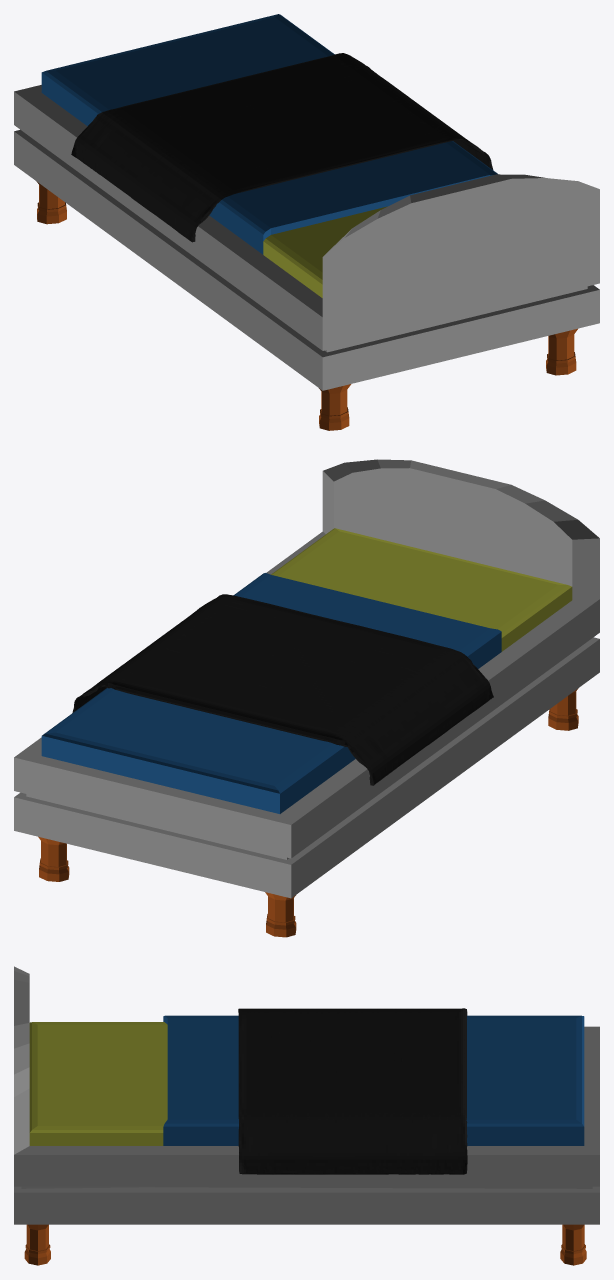
File: Bed 6.fbx
The picture shows the model from 3 angles, top to bottom: view 1: azimuth 30°, elevation 25°; view 2: azimuth 150°, elevation 25°; view 3: azimuth 270°, elevation 25°; orthographic projection. The views are drawn at different scales.
Parts seen in each view (by area): view 1: Cube.208; view 2: Cube.208; view 3: Cube.208.
Boxes of the visible parts, x1=… form: Cube.208: x1=14, y1=14, x2=599, y2=430; Cube.208: x1=14, y1=459, x2=599, y2=937; Cube.208: x1=14, y1=966, x2=599, y2=1265.
Bounding box in the file's own units: 2.71 × 1.04 × 1.53.
